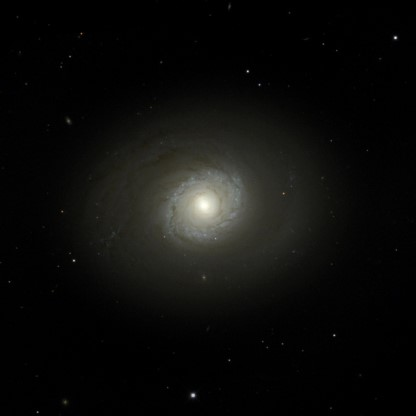Messier 94: (74, 92, 331, 307)
